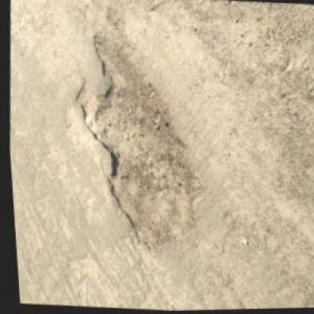Hueco: (57, 29, 222, 262)
